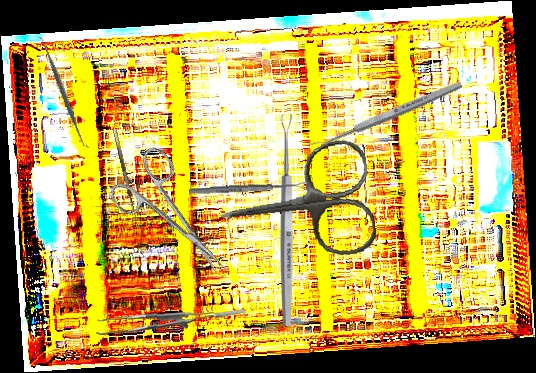Hook Surgical: (112, 127, 145, 229)
Iris Scissors: (213, 136, 379, 273), (101, 142, 246, 295)
Spatula Surgical: (35, 33, 92, 152)
Surgical Spoon: (309, 79, 464, 153), (280, 114, 294, 326), (188, 181, 308, 196)
Tissue Forceps: (95, 304, 247, 340)
